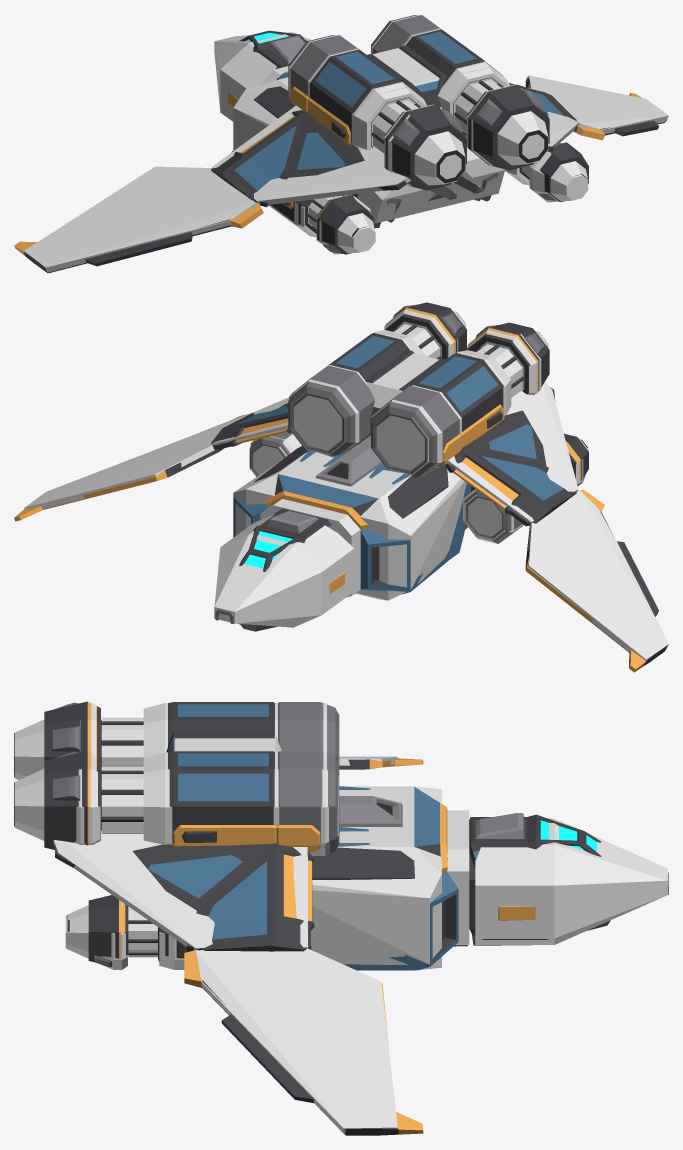
File: SM_Ship_Fighter_Heavy_01.fbx
The picture shows the model from 3 angles, top to bottom: view 1: azimuth 30°, elevation 25°; view 2: azimuth 150°, elevation 25°; view 3: azimuth 270°, elevation 25°; orthographic projection. The views are drawn at different scales.
Visible parts, largest first — view 1: SM_Ship_Fighter_Heavy_01_ConvexHulls, SM_Ship_Fighter_Heavy_01_LOD0; view 2: SM_Ship_Fighter_Heavy_01_ConvexHulls, SM_Ship_Fighter_Heavy_01_LOD0; view 3: SM_Ship_Fighter_Heavy_01_ConvexHulls, SM_Ship_Fighter_Heavy_01_LOD0.
Part boxes in pixels (x1,y1,x2,y2): SM_Ship_Fighter_Heavy_01_ConvexHulls: [24, 14, 668, 272]; SM_Ship_Fighter_Heavy_01_LOD0: [14, 15, 665, 273]; SM_Ship_Fighter_Heavy_01_ConvexHulls: [24, 310, 668, 660]; SM_Ship_Fighter_Heavy_01_LOD0: [14, 302, 667, 672]; SM_Ship_Fighter_Heavy_01_ConvexHulls: [14, 703, 667, 1133]; SM_Ship_Fighter_Heavy_01_LOD0: [14, 701, 668, 1135].
Size of the model in its own units: 1202 by 1613 by 439.
Materials: 1 (1 with a texture image).
